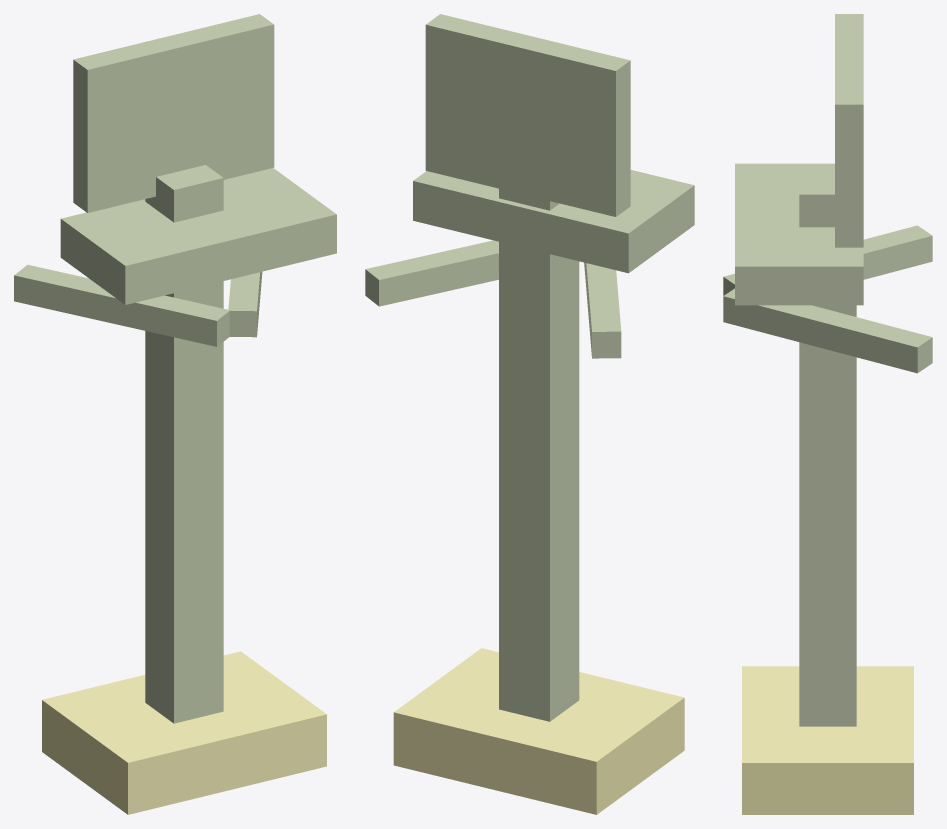
File: furniture_bus_stop_perch_seat.glb
3 views of the same model, side by side, from view 1: azimuth 30°, elevation 25°; view 2: azimuth 150°, elevation 25°; view 3: azimuth 270°, elevation 25° (orthographic). The views are drawn at different scales.
Parts seen in each view (by area): view 1: post, seat_back, base, seat_pan, brace_left, brace_right; view 2: post, seat_back, base, seat_pan, brace_right, brace_left; view 3: post, base, seat_pan, brace_right, seat_back, brace_left.
Part boxes in pixels (x1,y1,x2,y2): post: (145, 165, 223, 723); seat_back: (73, 14, 274, 212); base: (42, 651, 326, 814); seat_pan: (60, 168, 336, 304); brace_left: (14, 264, 229, 346); brace_right: (228, 272, 262, 337); post: (499, 188, 579, 721); seat_back: (425, 14, 630, 216); base: (393, 648, 684, 814); seat_pan: (413, 170, 694, 273); brace_right: (365, 240, 579, 306); brace_left: (584, 262, 621, 358); post: (799, 170, 856, 726); base: (742, 666, 913, 814); seat_pan: (735, 163, 863, 305); brace_right: (723, 288, 932, 373); seat_back: (835, 14, 863, 247); brace_left: (723, 225, 932, 295).
Bounding box in the file's own units: 0.4035 × 1.09 × 0.2926.
